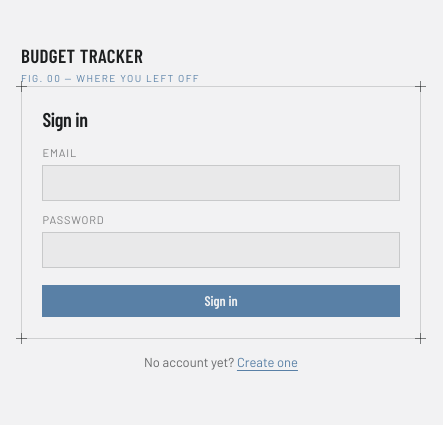
Test: registering › offers a way to create an account from the login page
This screenshot has width=443, height=425.
Click the link "Create one". click: coordinates (267, 362)
box: 237,354 -> 298,370
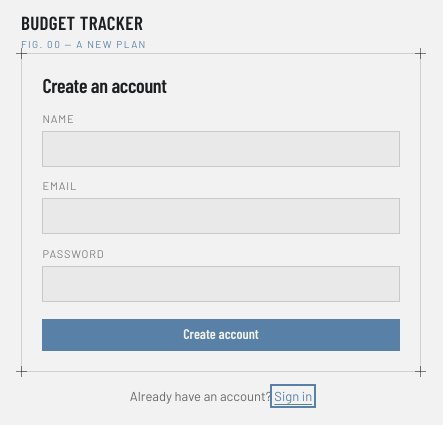
Expected: the heading "Create an account" is shown, 42,74 -> 167,97
